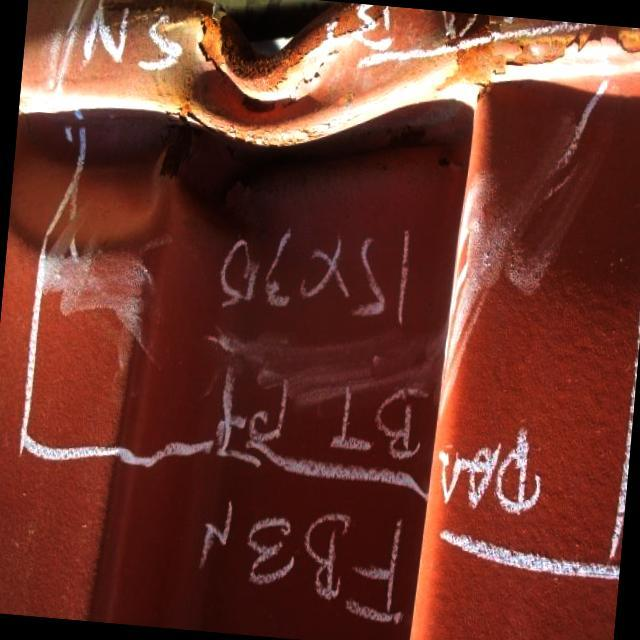dent: (6, 52, 640, 332)
